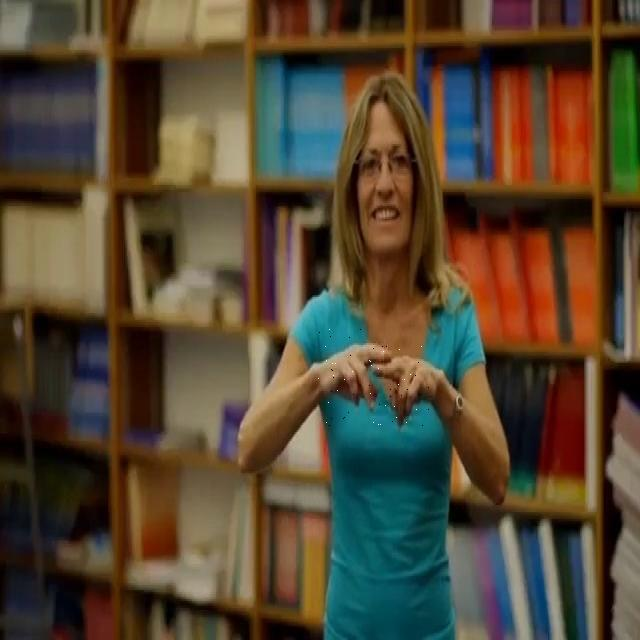salt: (316, 328, 432, 426)
